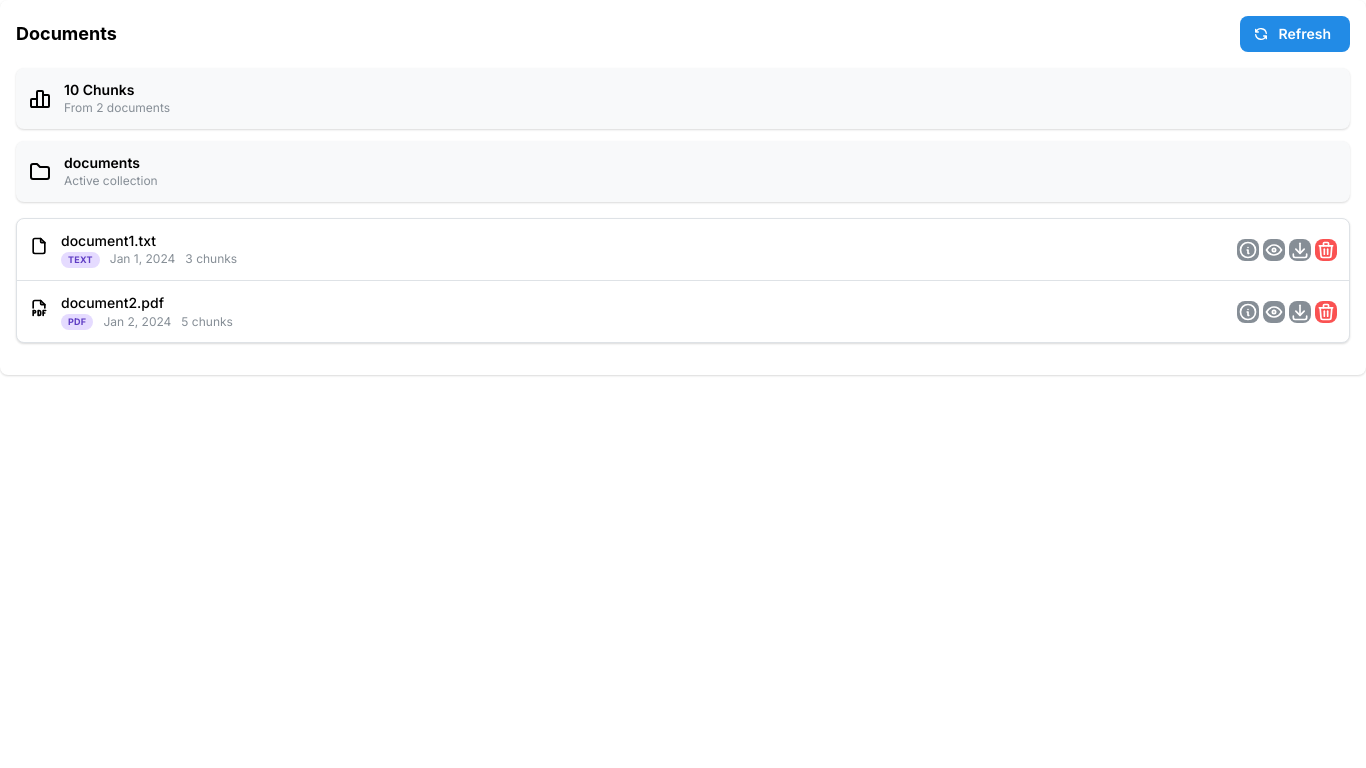
Test: DocumentList › should close delete confirmation modal when cancel is clicked
Expected: the text "document1.txt" is shown, [61, 232, 156, 249]
Click the button named "Delete document1.txt".
click(1326, 250)  # box [1315, 239, 1337, 261]
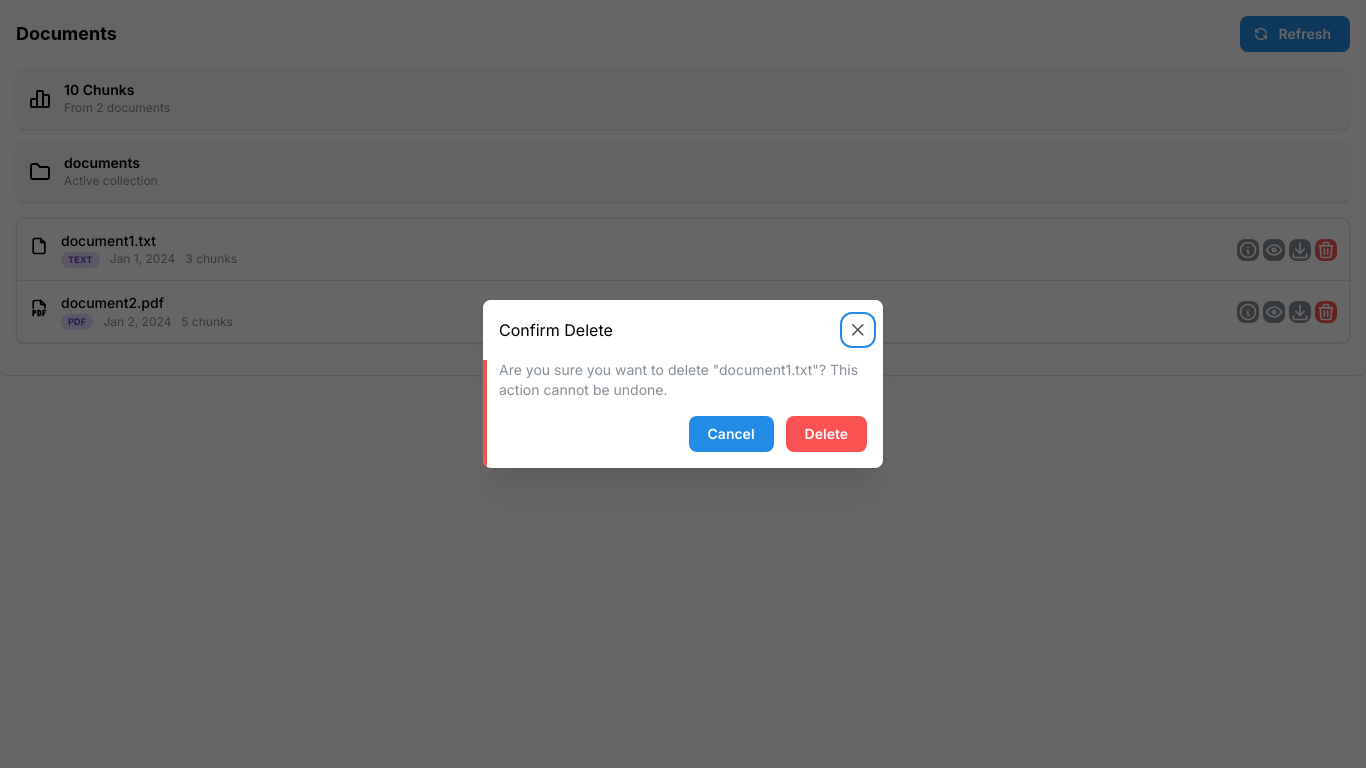
Expected: the heading "Confirm Delete" is shown, [499, 322, 613, 338]
Click the button "Cancel".
click(731, 434)  # box [688, 416, 774, 452]
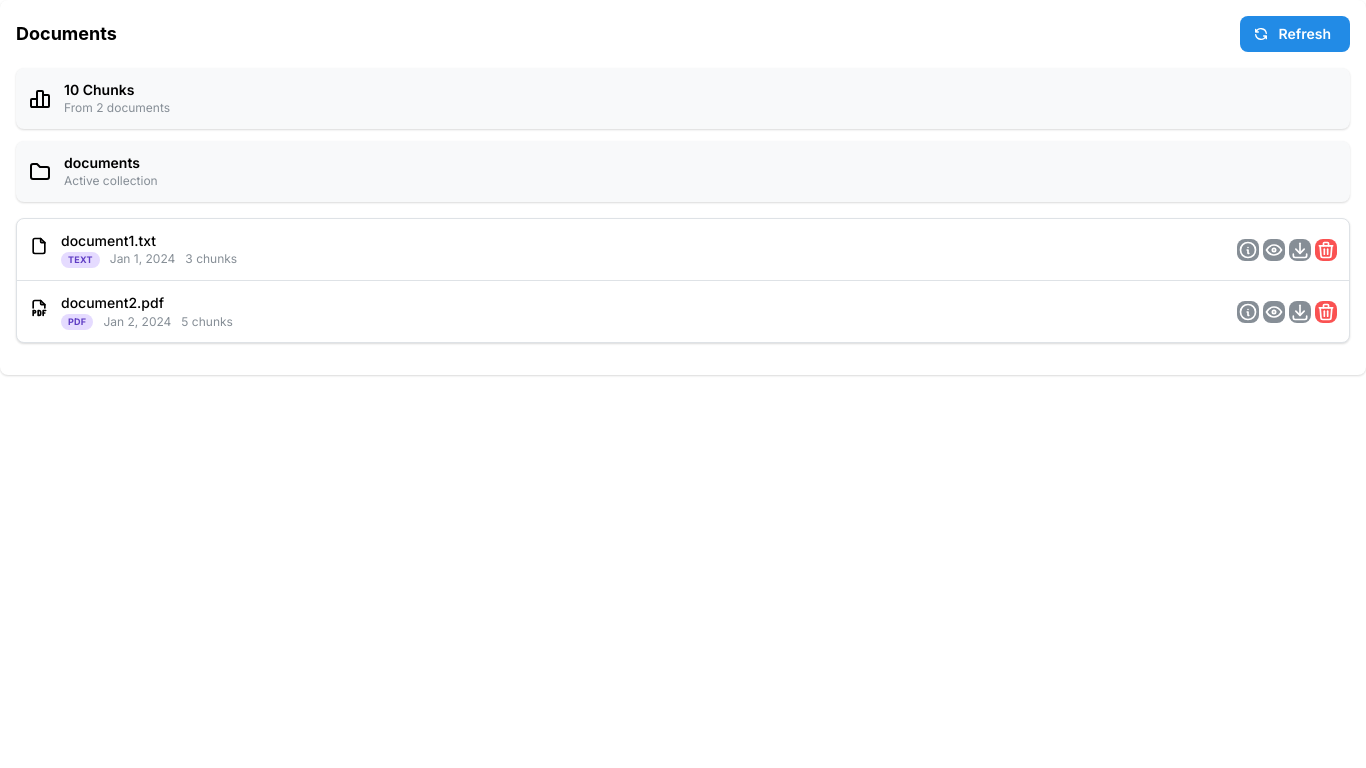
Expected: the heading "Confirm Delete" is gone
